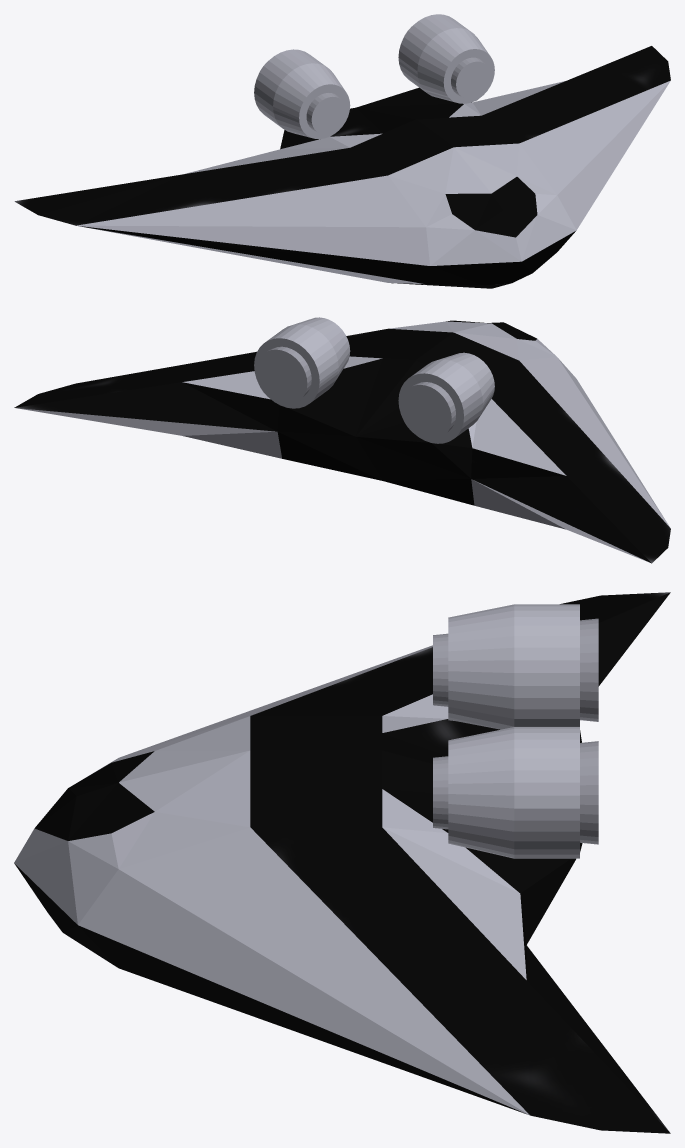
The model's file is fighter.obj.
3 renders of one model, top to bottom at view 1: azimuth 30°, elevation 25°; view 2: azimuth 150°, elevation 25°; view 3: azimuth 270°, elevation 25°, orthographic. The views are drawn at different scales.
Parts seen in each view (by area): view 1: Cube; view 2: Cube; view 3: Cube.
Part boxes in pixels (x1=…): Cube: x1=14, y1=14, x2=670, y2=288; Cube: x1=14, y1=317, x2=670, y2=563; Cube: x1=14, y1=592, x2=670, y2=1133.
Size of the model in its own units: 9.72 by 2.53 by 4.98.
1 material, 1 textured.
